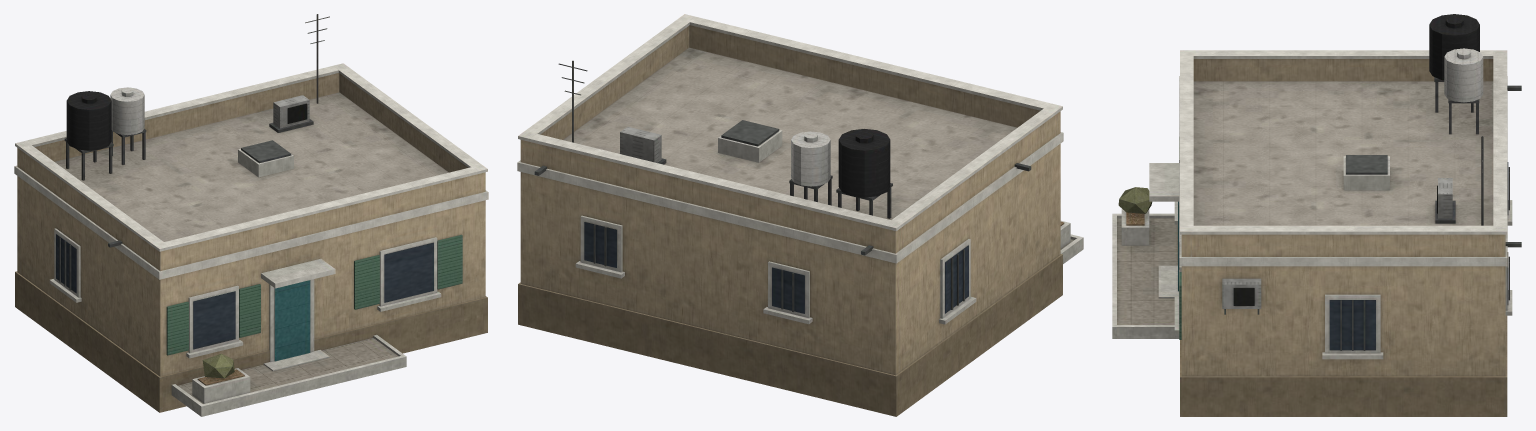
The model's file is civ_house_a.glb.
The picture shows the model from 3 angles, left to right: view 1: azimuth 30°, elevation 25°; view 2: azimuth 150°, elevation 25°; view 3: azimuth 270°, elevation 25°; orthographic projection. The views are drawn at different scales.
Visible parts, largest first — view 1: civ_house_a; view 2: civ_house_a; view 3: civ_house_a.
Boxes of the visible parts, box(x1,y1,x2,y2) form: civ_house_a: box(14, 14, 488, 416); civ_house_a: box(517, 14, 1083, 416); civ_house_a: box(1112, 14, 1521, 416).
Bounding box in the file's own units: 9.89 × 6.2 × 8.85.
1 material, 1 textured.
